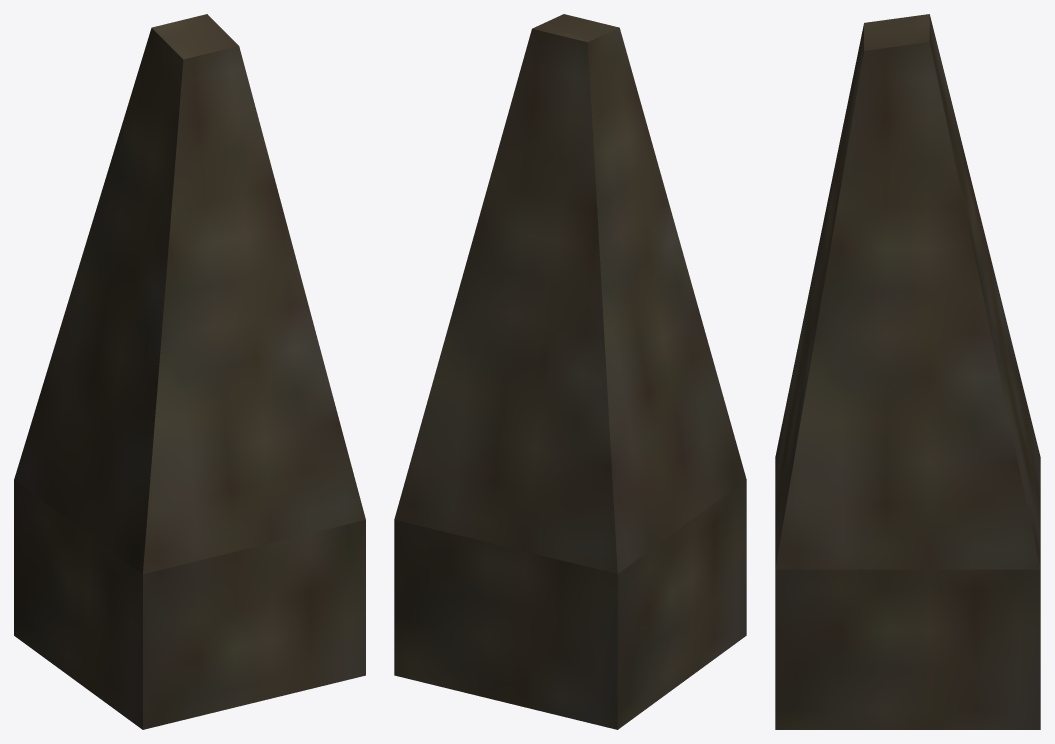
The model's file is wide_wooden_spike_small_offset.obj.
The picture shows the model from 3 angles, left to right: view 1: azimuth 30°, elevation 25°; view 2: azimuth 150°, elevation 25°; view 3: azimuth 270°, elevation 25°; orthographic projection. The views are drawn at different scales.
Visible parts, largest first — view 1: cuboid; view 2: cuboid; view 3: cuboid.
Part boxes in pixels (<box>): cuboid: <box>14,14,365,729</box>; cuboid: <box>394,14,746,729</box>; cuboid: <box>775,14,1040,729</box>.
Bounding box in the file's own units: 0.375 × 1.01 × 0.375.
